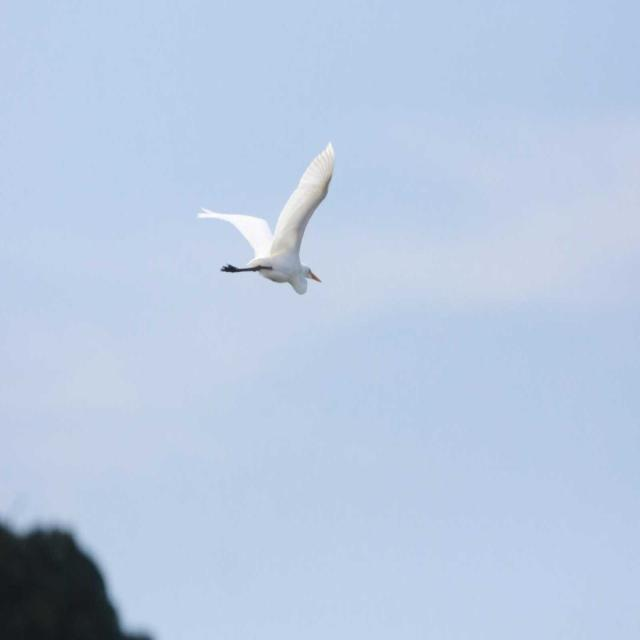bird: (190, 150, 339, 297)
